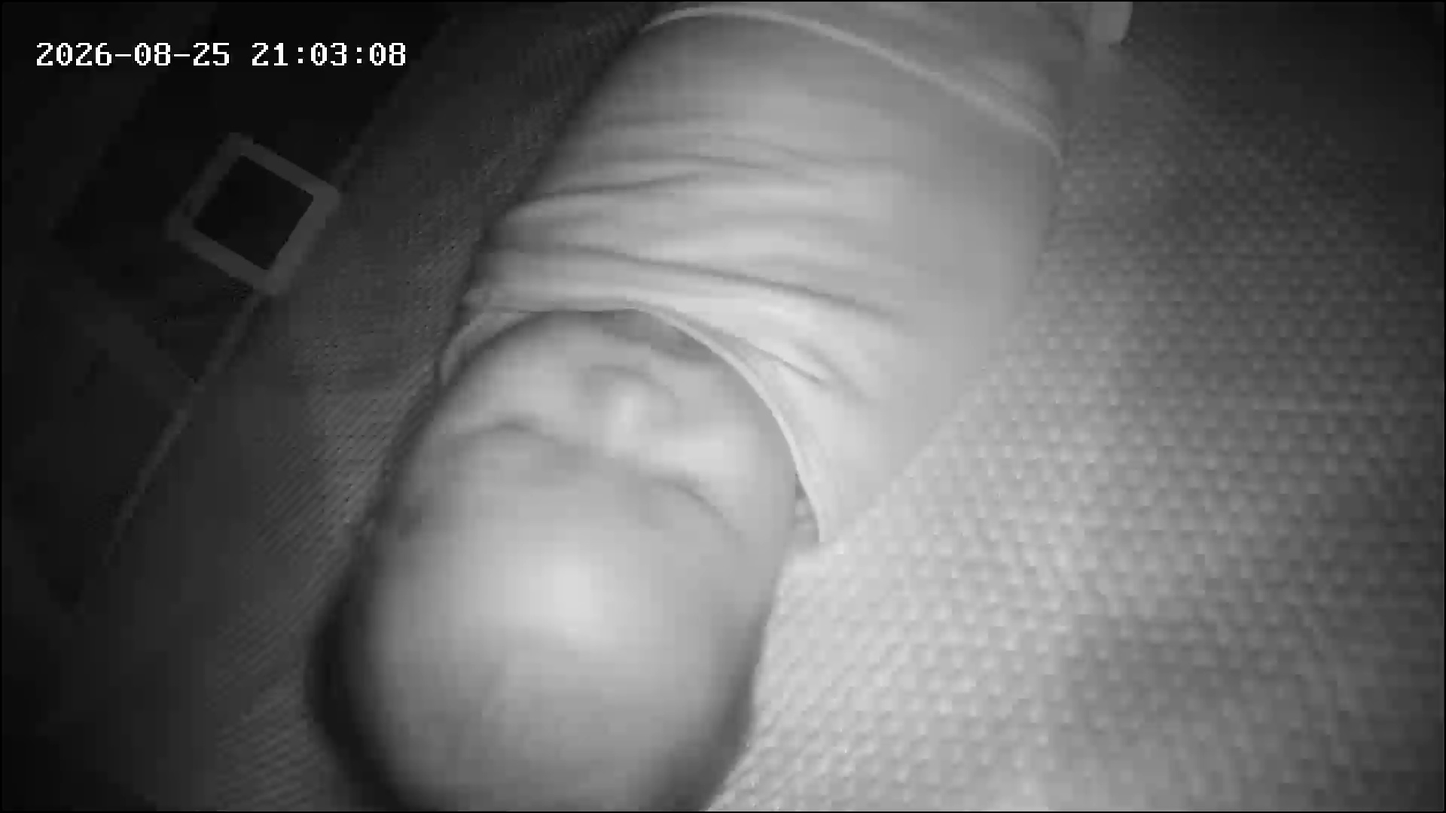baby: (280, 3, 1090, 810)
baby_face: (309, 297, 824, 811)
